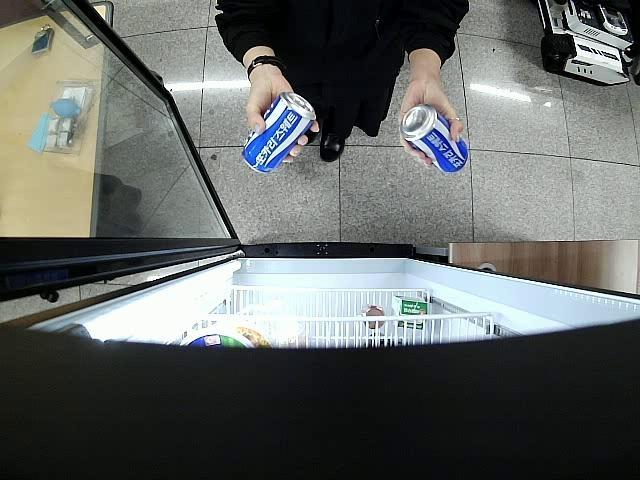13_pocariSweat: (240, 92, 315, 174), (401, 103, 468, 174)
